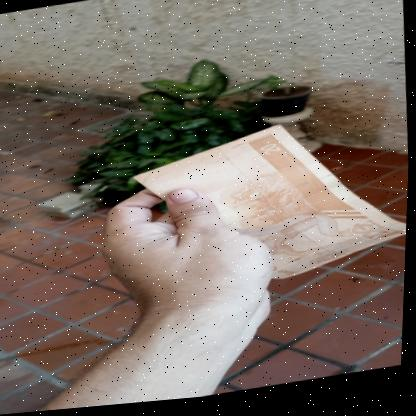twenty-back-vef: (128, 110, 412, 307)
